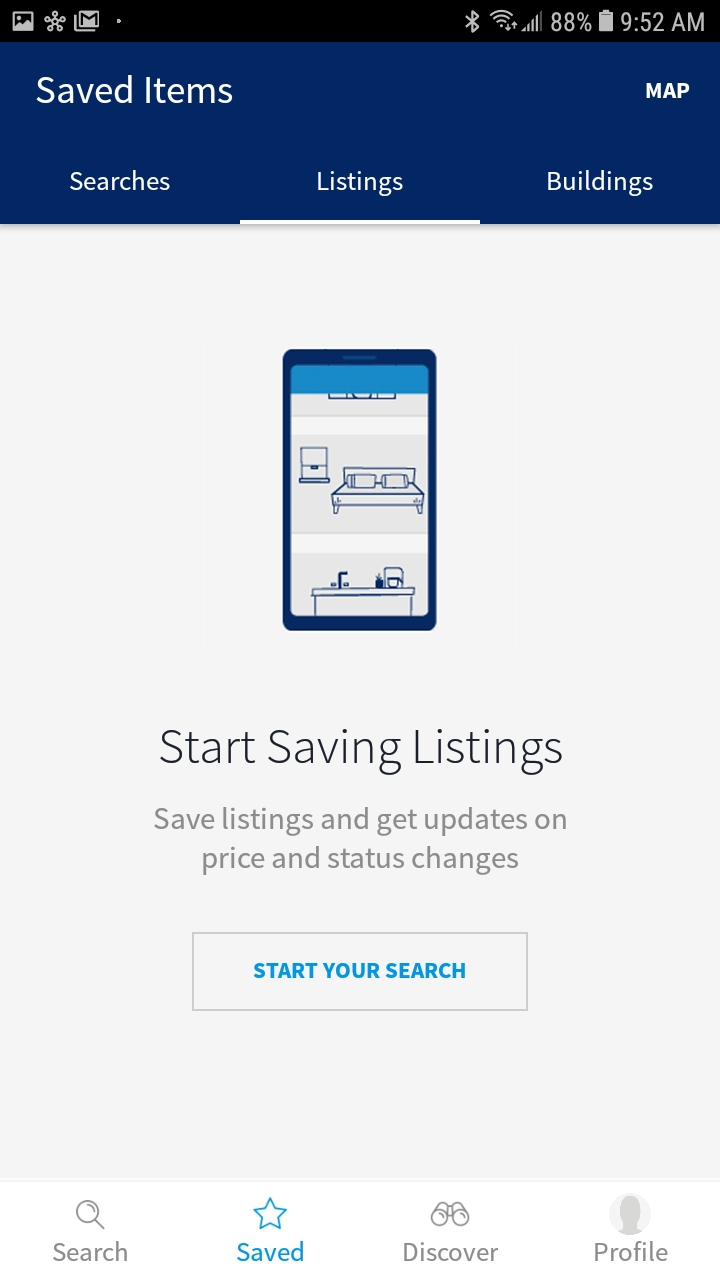Icon: (609, 1191, 652, 1235), (253, 1197, 288, 1230), (76, 1199, 106, 1230)
Image: (282, 349, 438, 632), (431, 1201, 471, 1227)
Text: (154, 806, 567, 876), (160, 729, 563, 776), (37, 76, 233, 105), (548, 170, 654, 198), (318, 171, 404, 198), (70, 170, 171, 192), (403, 1241, 499, 1262), (54, 1241, 129, 1262), (595, 1241, 669, 1262), (238, 1240, 305, 1262), (646, 83, 690, 100)
TextButton: (193, 932, 529, 1012)
UpperTaskBar: (1, 1, 720, 43)
